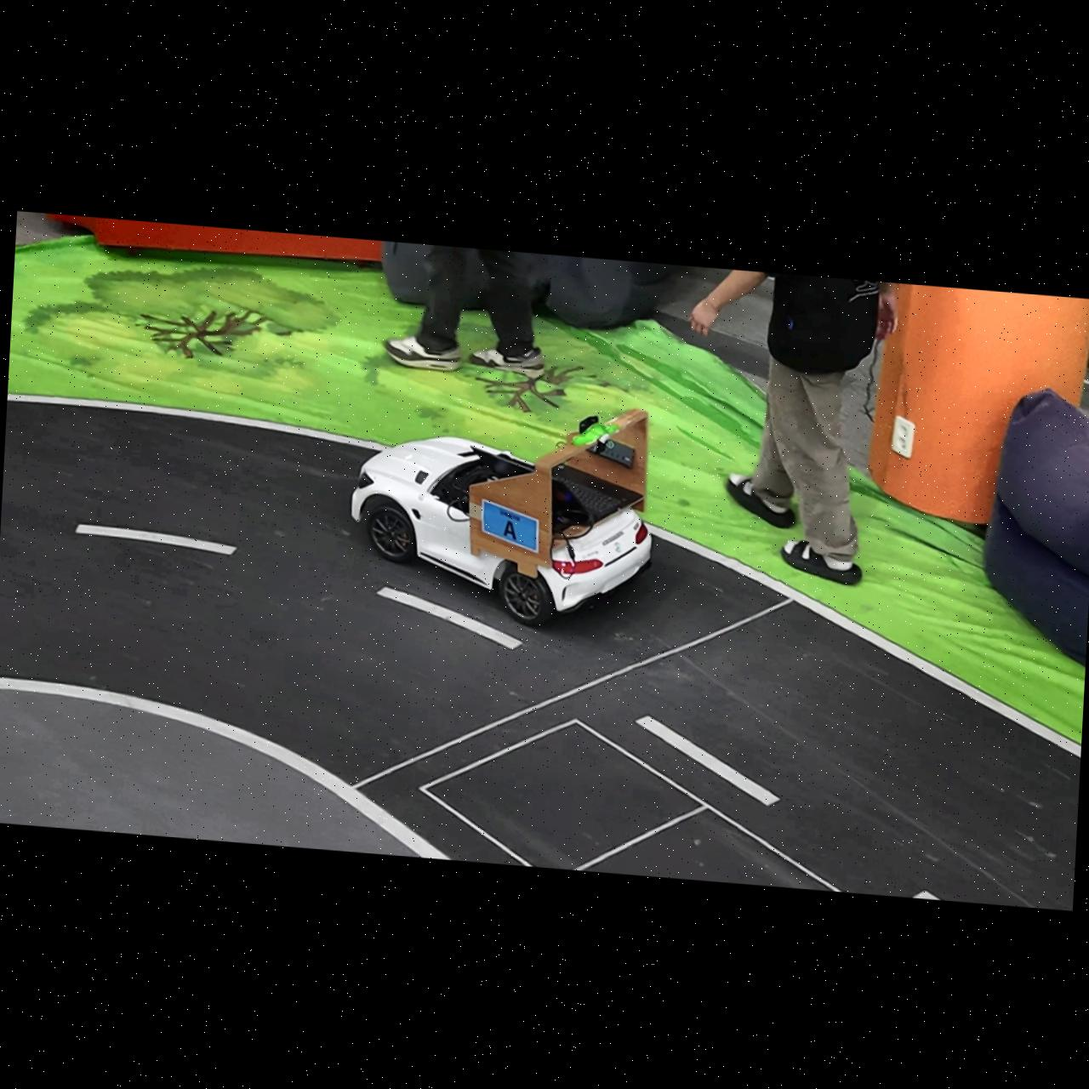broken_line: (634, 715, 780, 806), (376, 587, 523, 649), (75, 524, 237, 554), (912, 890, 940, 899)
